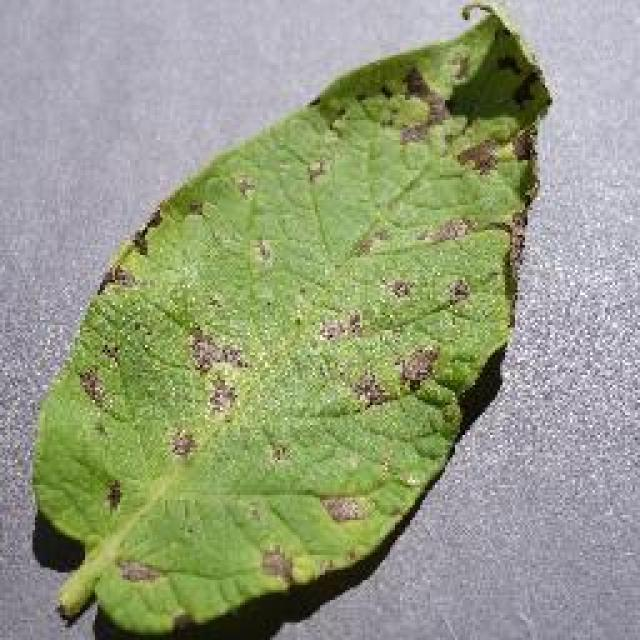early_blight: (25, 0, 555, 638)
